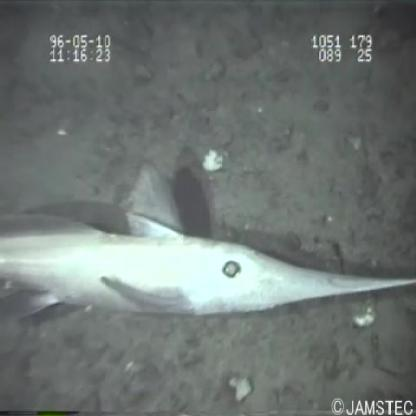Bio: (1, 158, 414, 328)
